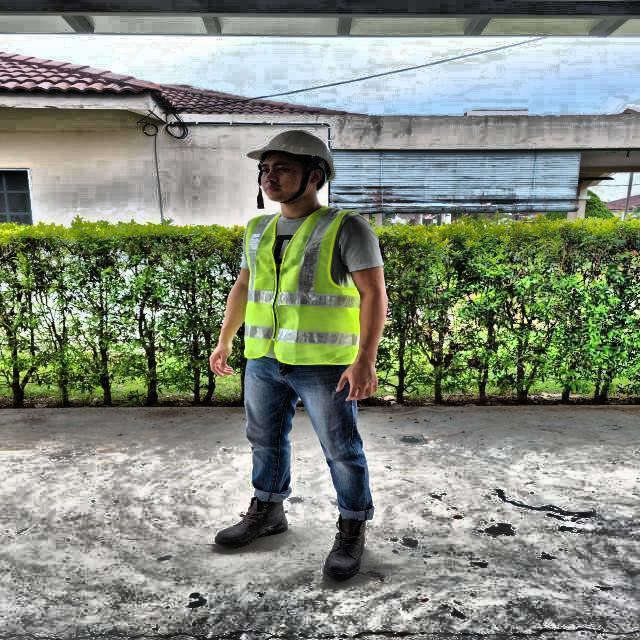safety_jacket: (241, 204, 367, 368)
